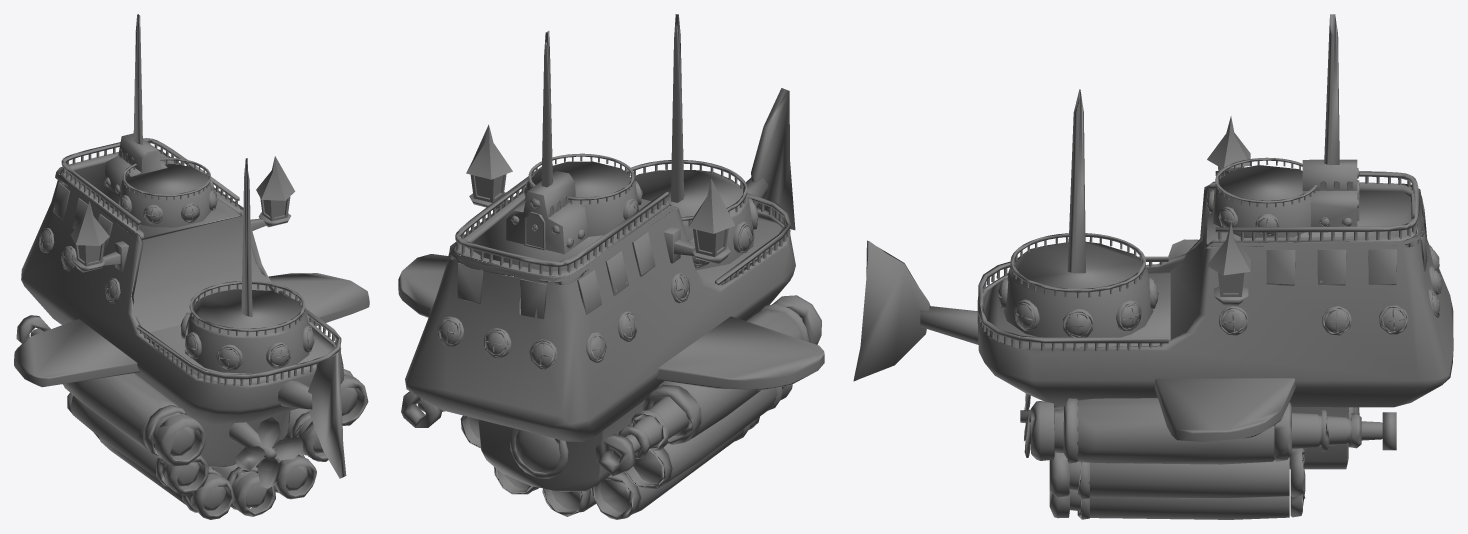
File: polar-tang-low.glb
The picture shows the model from 3 angles, left to right: view 1: azimuth 30°, elevation 25°; view 2: azimuth 150°, elevation 25°; view 3: azimuth 270°, elevation 25°; orthographic projection. The views are drawn at different scales.
Visible parts, largest first — view 1: sip1_lambert37_0.007, sotgan_lambert44_0.007, t2_lambert42_0.007, t3_lambert39_0.007, leak1_lambert45_0.007, t4_lambert43_0.007, window_lambert47_0.014, glls_lambert40_0.007, leak2_lambert46_0.007, t1_lambert41_0.007; view 2: sip1_lambert37_0.007, sotgan_lambert44_0.007, t3_lambert39_0.007, t2_lambert42_0.007, window_lambert47_0.014, glls_lambert40_0.007, leak1_lambert45_0.007, t4_lambert43_0.007, t1_lambert41_0.007, leak2_lambert46_0.007; view 3: sip1_lambert37_0.007, sotgan_lambert44_0.007, t2_lambert42_0.007, t3_lambert39_0.007, leak1_lambert45_0.007, window_lambert47_0.014, glls_lambert40_0.007, t1_lambert41_0.007, leak2_lambert46_0.007, t4_lambert43_0.007.
Boxes of the visible parts, bbox=[...] form: sip1_lambert37_0.007: bbox=[21, 149, 346, 478]; sotgan_lambert44_0.007: bbox=[16, 315, 368, 519]; t2_lambert42_0.007: bbox=[104, 14, 309, 373]; t3_lambert39_0.007: bbox=[14, 273, 369, 488]; leak1_lambert45_0.007: bbox=[61, 138, 341, 385]; t4_lambert43_0.007: bbox=[71, 156, 295, 272]; window_lambert47_0.014: bbox=[39, 149, 314, 370]; glls_lambert40_0.007: bbox=[40, 149, 314, 367]; leak2_lambert46_0.007: bbox=[122, 158, 305, 336]; t1_lambert41_0.007: bbox=[52, 182, 112, 251]; sip1_lambert37_0.007: bbox=[405, 88, 795, 441]; sotgan_lambert44_0.007: bbox=[401, 295, 821, 519]; t3_lambert39_0.007: bbox=[398, 254, 824, 491]; t2_lambert42_0.007: bbox=[506, 14, 754, 270]; window_lambert47_0.014: bbox=[428, 175, 758, 478]; glls_lambert40_0.007: bbox=[434, 175, 758, 472]; leak1_lambert45_0.007: bbox=[455, 166, 790, 285]; t4_lambert43_0.007: bbox=[466, 124, 734, 264]; t1_lambert41_0.007: bbox=[457, 231, 655, 319]; leak2_lambert46_0.007: bbox=[528, 153, 747, 225]; sip1_lambert37_0.007: bbox=[853, 181, 1453, 407]; sotgan_lambert44_0.007: bbox=[1031, 398, 1396, 519]; t2_lambert42_0.007: bbox=[1003, 14, 1357, 343]; t3_lambert39_0.007: bbox=[1020, 239, 1348, 469]; leak1_lambert45_0.007: bbox=[978, 171, 1419, 351]; window_lambert47_0.014: bbox=[997, 168, 1441, 447]; glls_lambert40_0.007: bbox=[998, 167, 1441, 415]; t1_lambert41_0.007: bbox=[1266, 199, 1427, 285]; leak2_lambert46_0.007: bbox=[1010, 157, 1317, 298]; t4_lambert43_0.007: bbox=[1207, 116, 1250, 305].
Bounding box in the file's own units: 39.68 × 46.55 × 51.8.
Materials: 10 (10 with a texture image).
